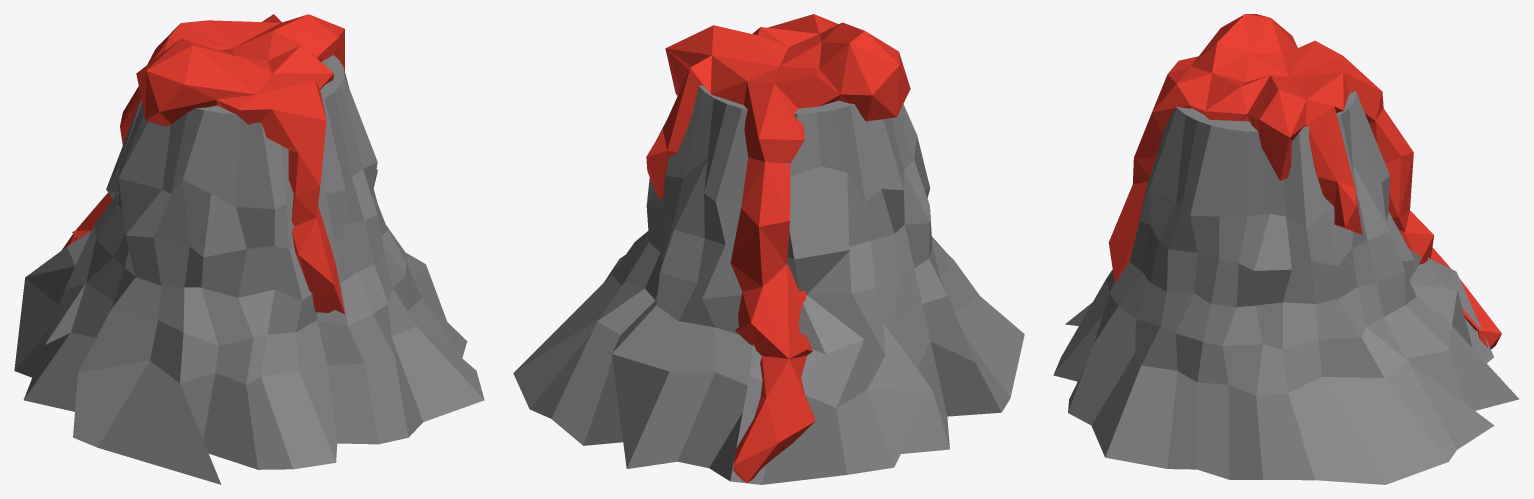
The model's file is lava_element.fbx.
3 renders of one model, left to right at view 1: azimuth 30°, elevation 25°; view 2: azimuth 150°, elevation 25°; view 3: azimuth 270°, elevation 25°, orthographic. The views are drawn at different scales.
Visible parts, largest first — view 1: Cylinder.001, Mball.056; view 2: Cylinder.001, Mball.056; view 3: Cylinder.001, Mball.056.
Boxes of the visible parts, <box> form: Cylinder.001: <box>14,55,484,484</box>; Mball.056: <box>62,14,344,314</box>; Cylinder.001: <box>513,85,1024,484</box>; Mball.056: <box>646,14,910,482</box>; Cylinder.001: <box>1053,90,1518,484</box>; Mball.056: <box>1108,14,1501,349</box>.
Bounding box in the file's own units: 354 × 296 × 367.
